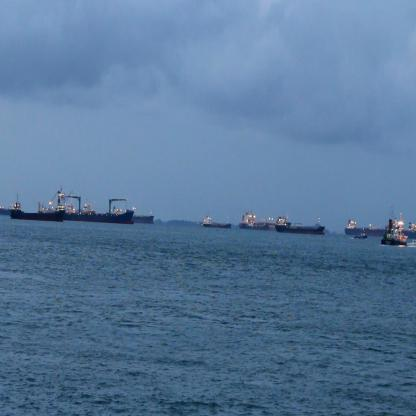Container Ship: (38, 187, 136, 224), (12, 192, 66, 222), (382, 203, 409, 247), (239, 210, 292, 231), (275, 216, 326, 234), (203, 214, 232, 230), (133, 210, 156, 224), (404, 222, 416, 240), (0, 205, 12, 217)
